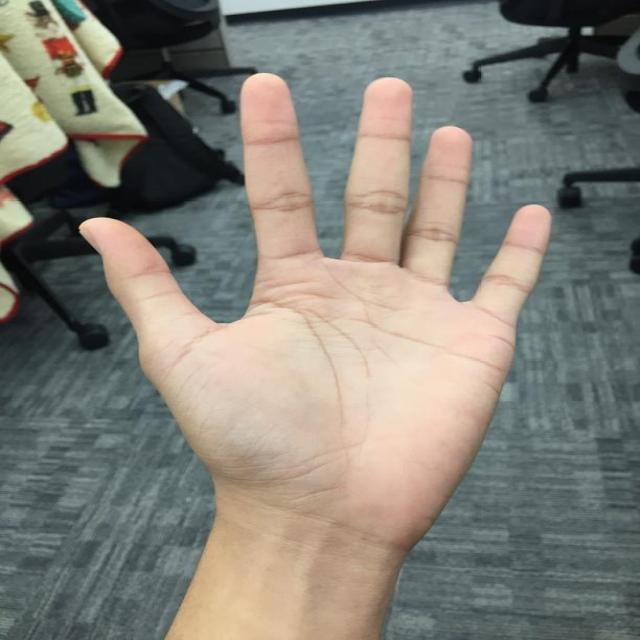hand: (76, 70, 553, 551)
